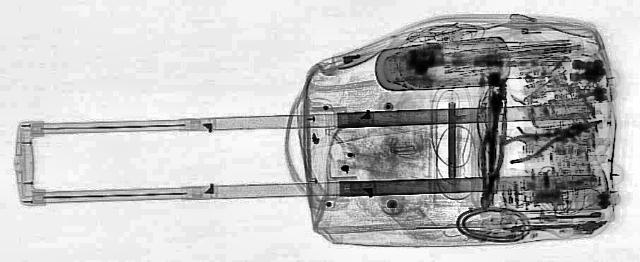Pliers: (476, 112, 622, 164)
